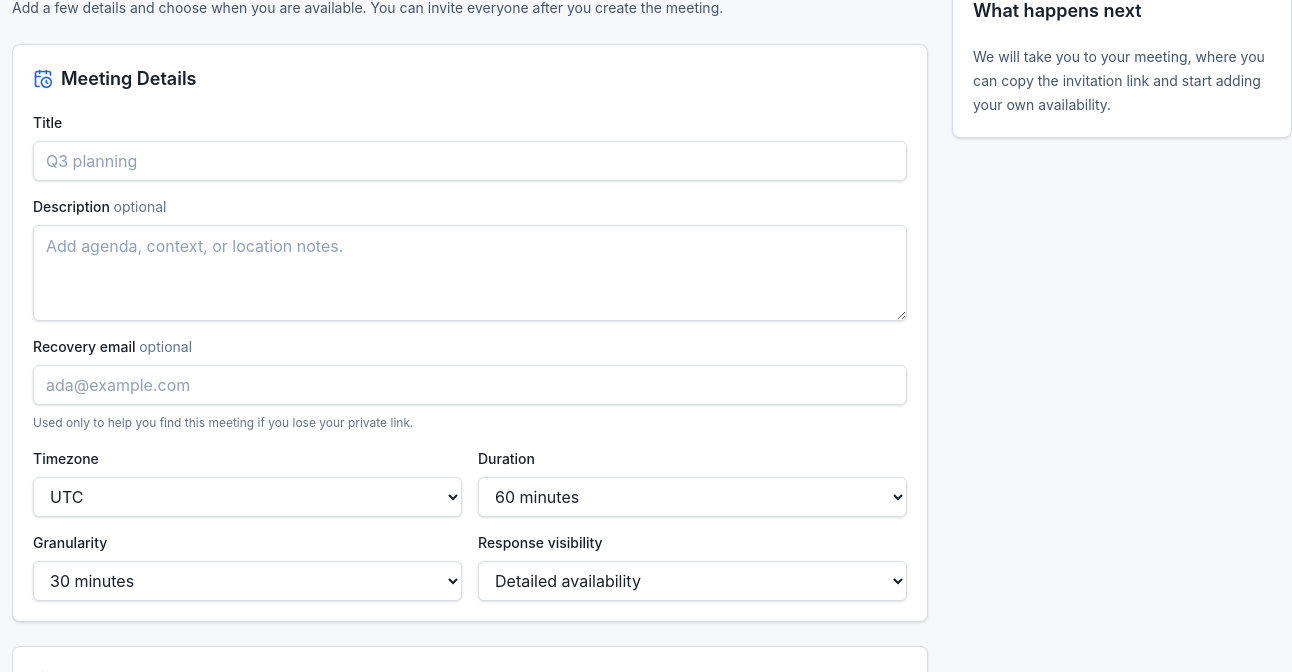
Scenario: NewMeetingForm › keeps submission client-side when duration does not align to granularity
The image size is (1292, 672).
Type "Odd meeting" into the field labelled "Title" at coordinates (470, 161), box [33,141,907,181]
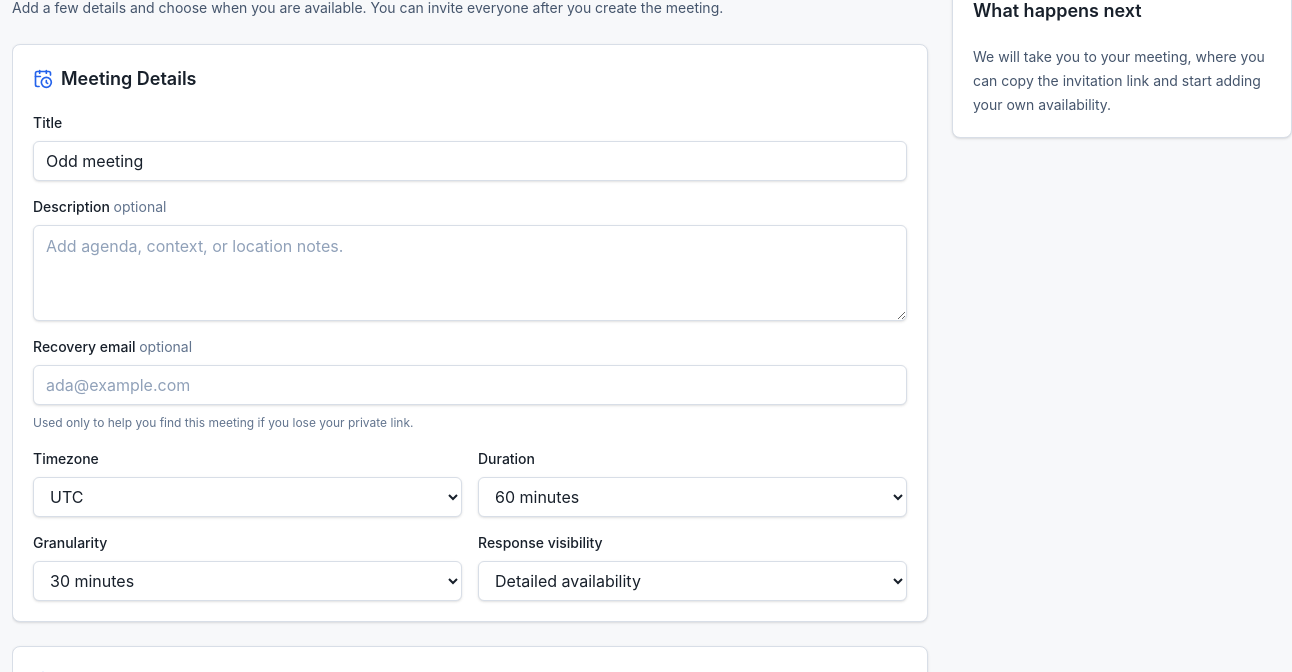
Select "45 minutes" in the dropdown labelled "Duration" at coordinates (692, 497), box [478,477,907,517]
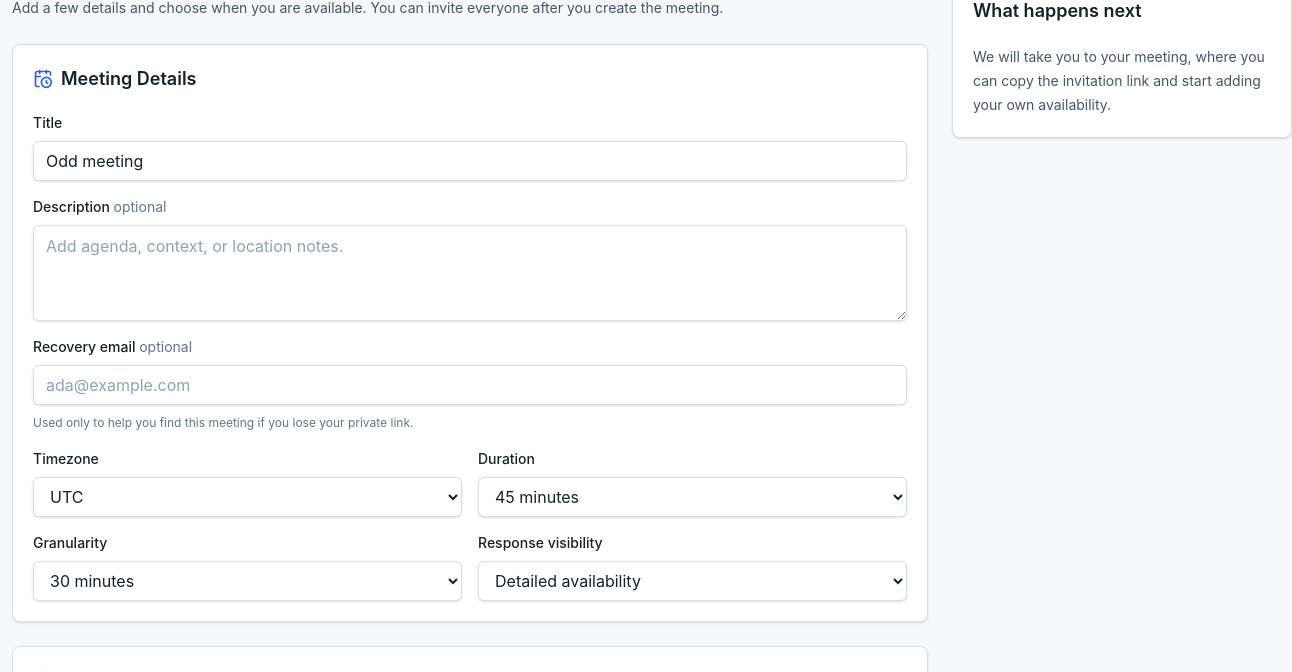
Select "60 minutes" in the dropdown labelled "Granularity" at coordinates (248, 581), box [33,561,462,601]
(page scrolled)
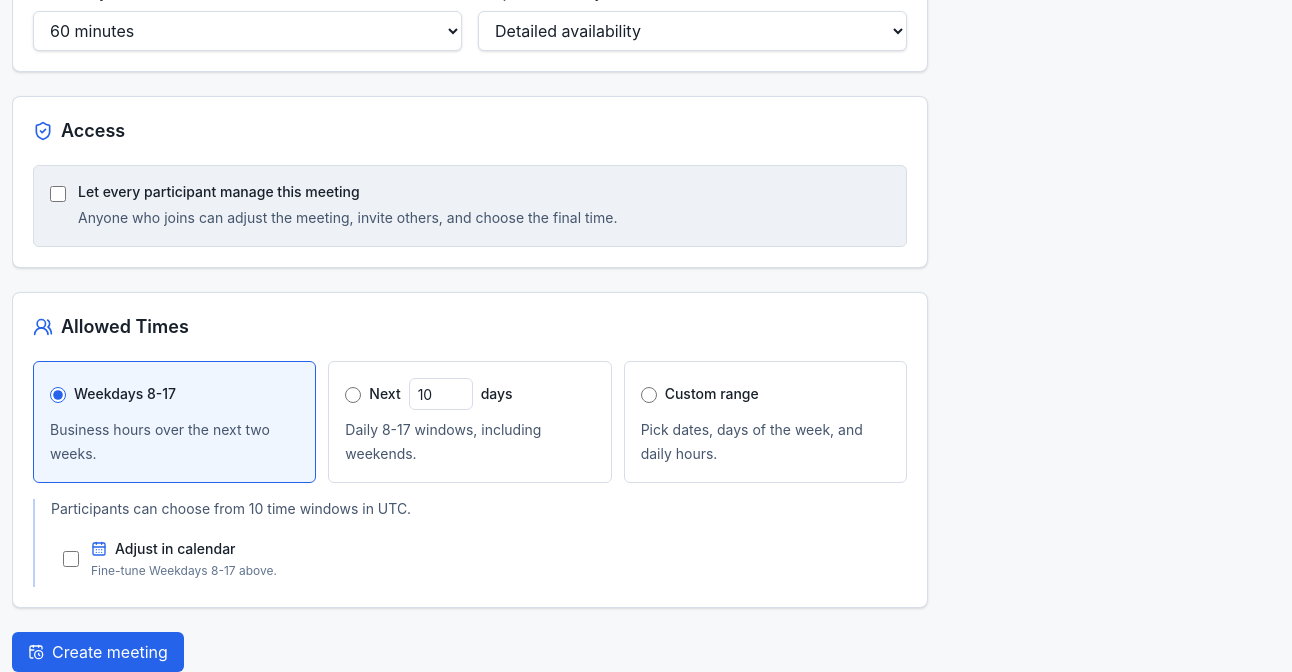
Click the button "Create meeting" at coordinates (98, 652), box [12,632,184,671]
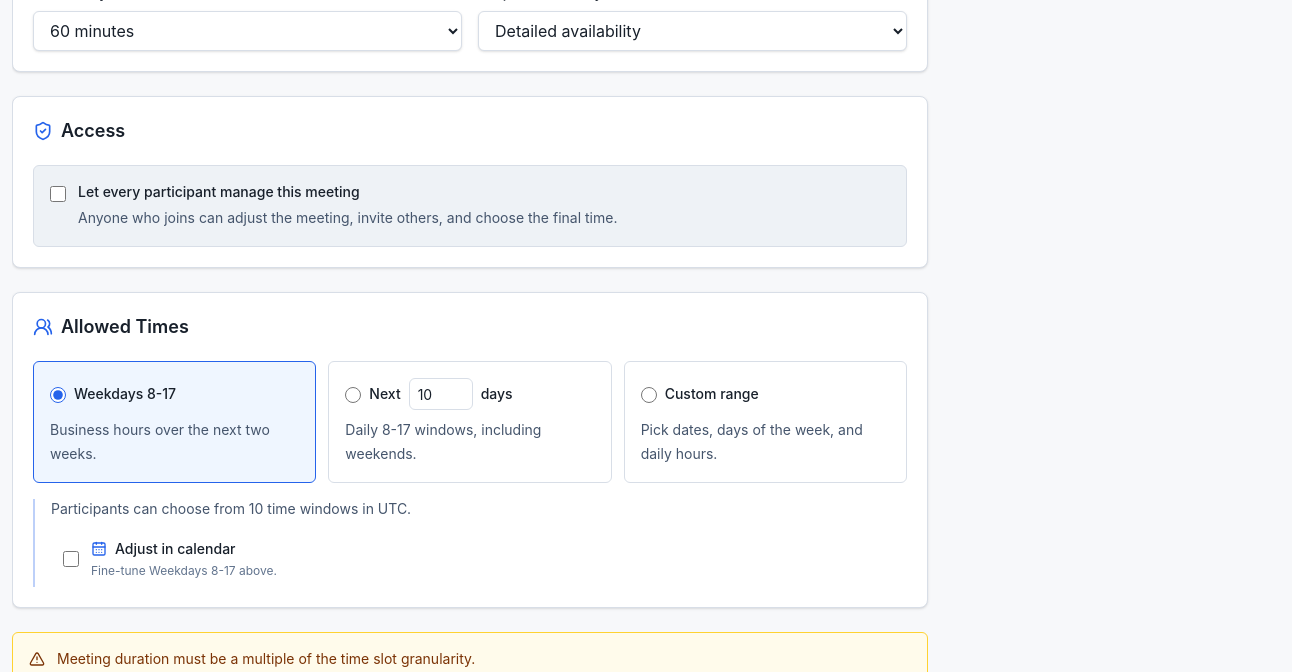
expect the text "duration must be a multiple" is shown: met, box [57,650,475,667]
